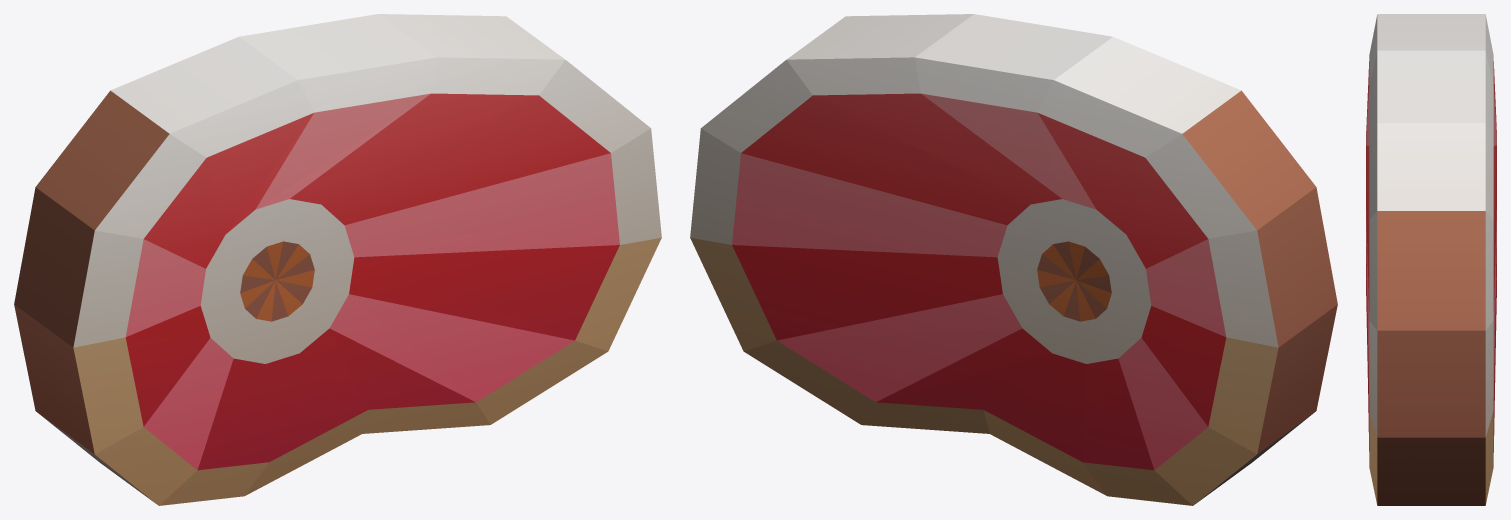
The model's file is food_meat_steak.glb.
3 renders of one model, left to right at view 1: azimuth 30°, elevation 25°; view 2: azimuth 150°, elevation 25°; view 3: azimuth 270°, elevation 25°, orthographic. The views are drawn at different scales.
Parts seen in each view (by area): view 1: model; view 2: model; view 3: model.
Part boxes in pixels (x1,y1,x2,y2): model: (14, 14, 661, 505); model: (690, 14, 1337, 505); model: (1366, 14, 1496, 505).
Size of the model in its own units: 0.55 by 0.36 by 0.116.
Materials: 1 (1 with a texture image).
